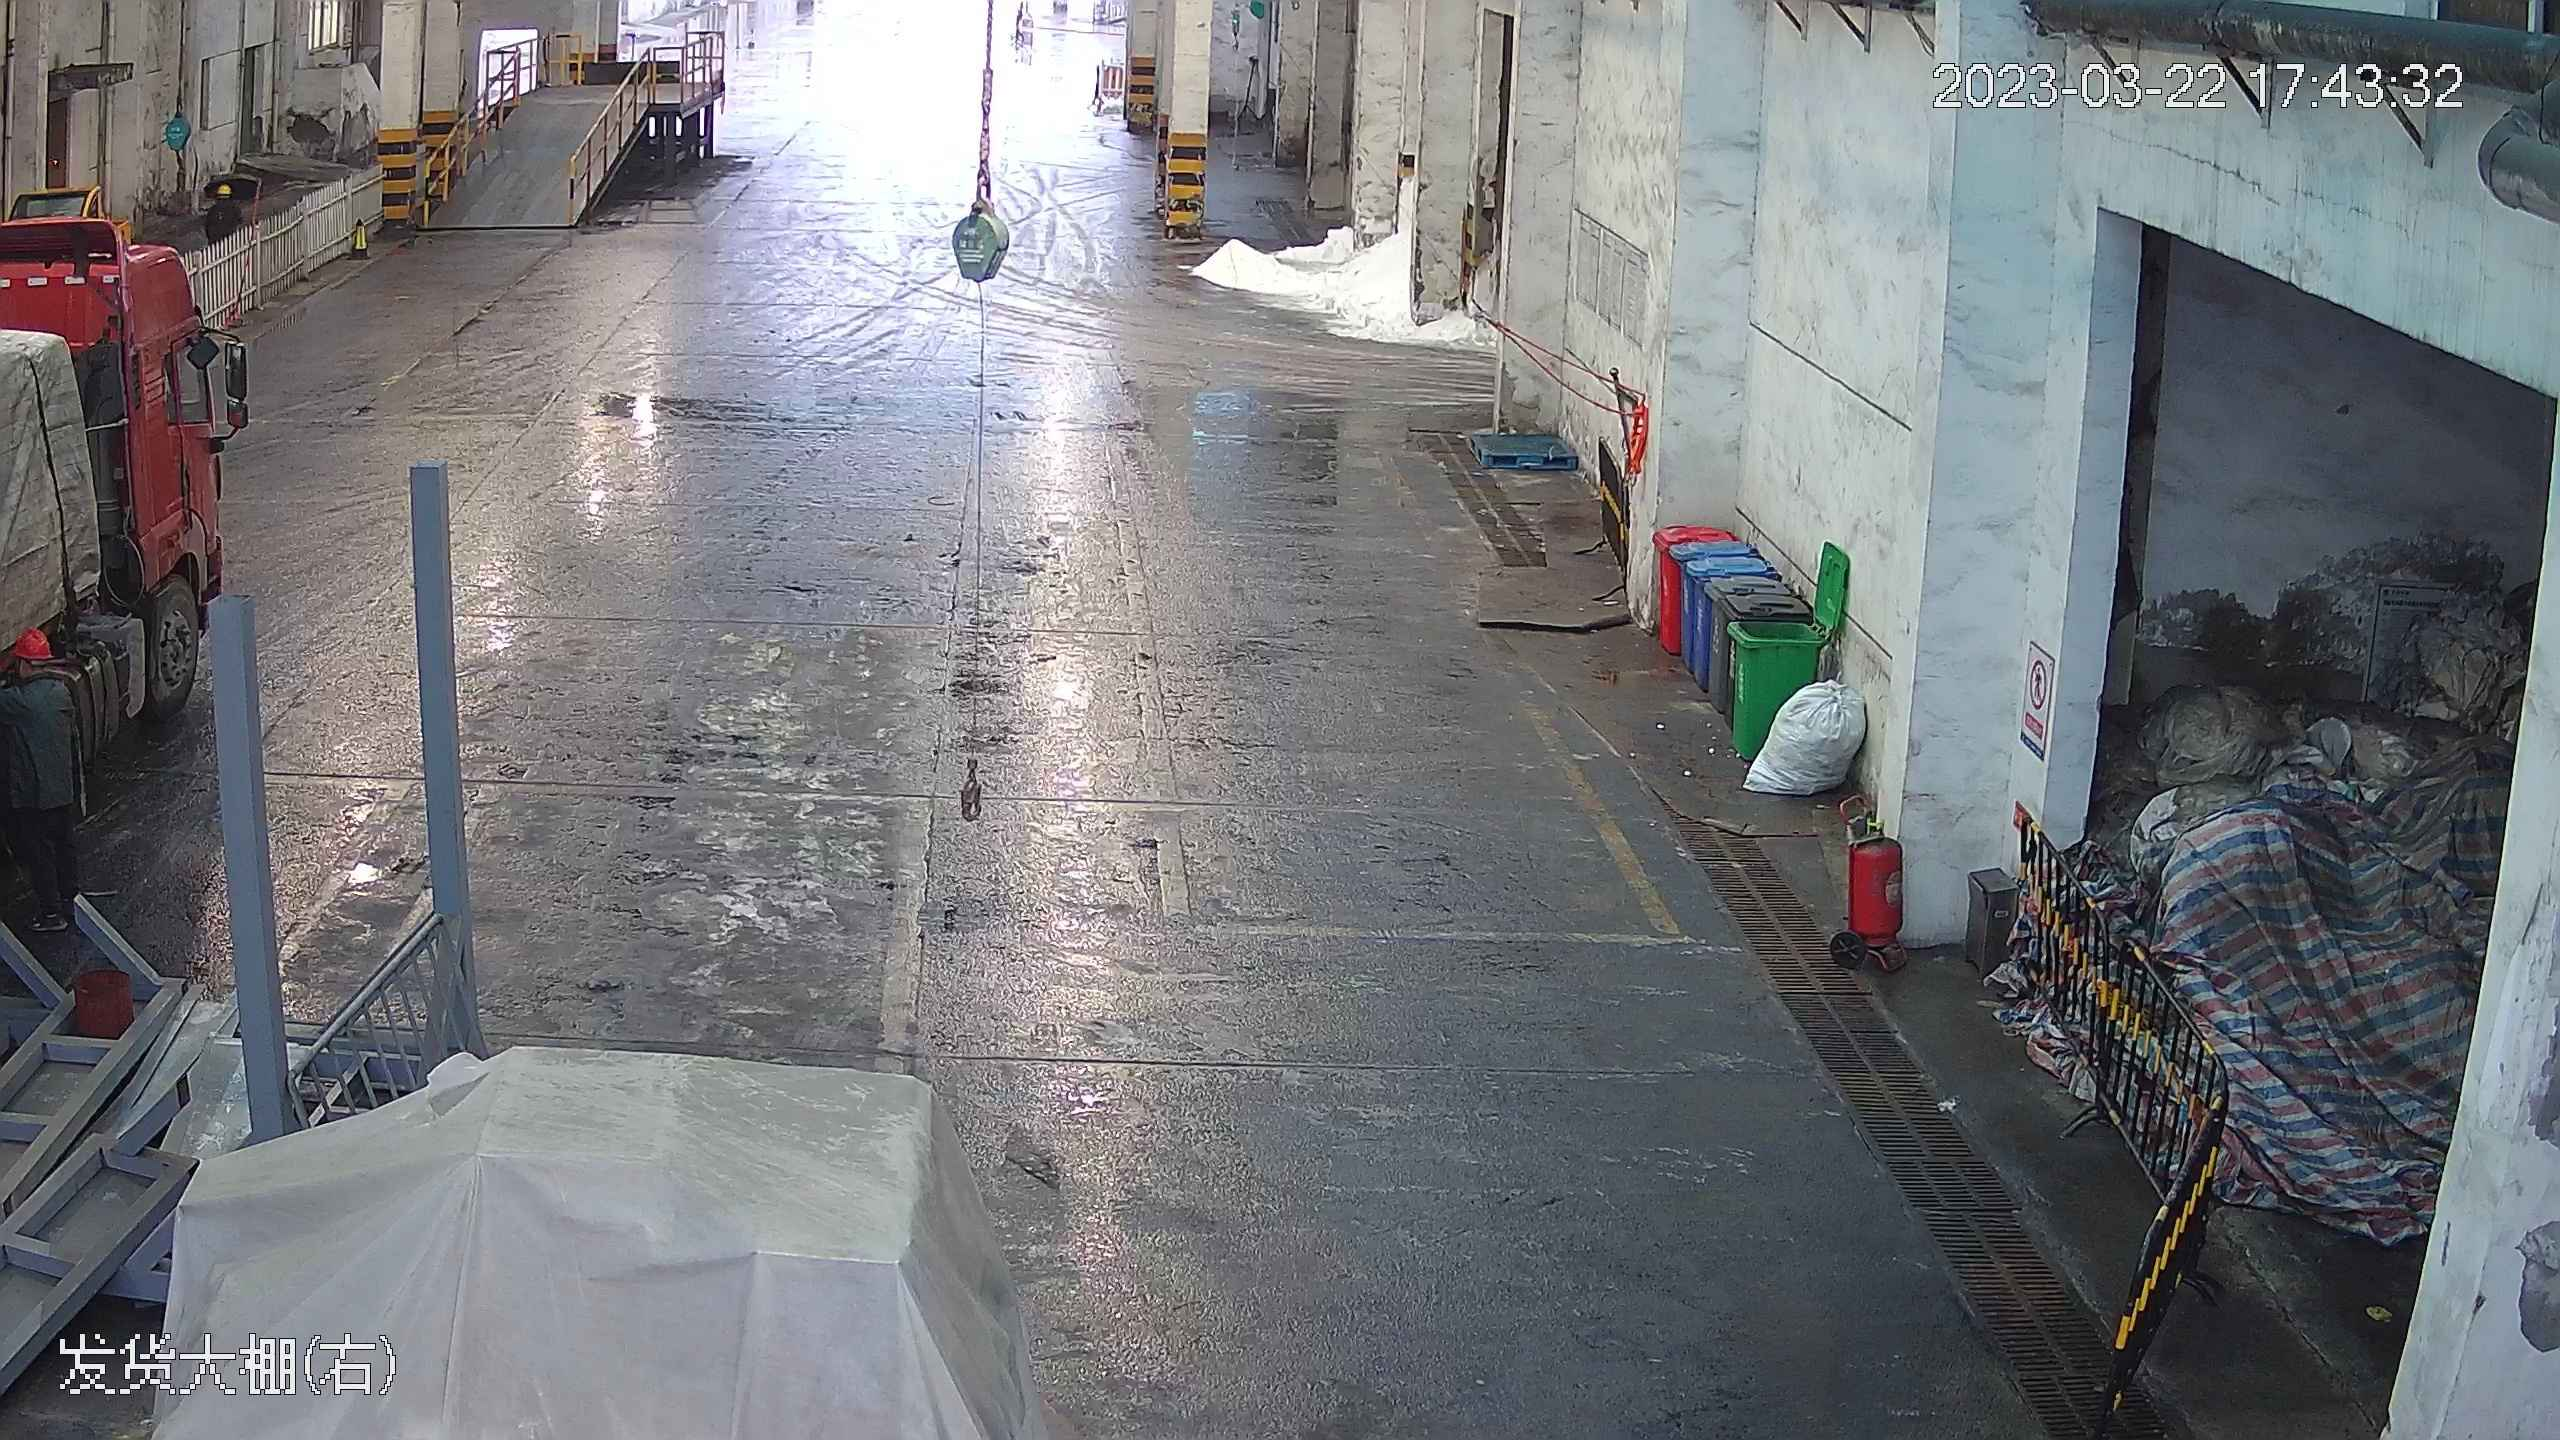head: (1, 623, 70, 740), (204, 177, 244, 222)
helmet: (5, 623, 50, 662)
people: (0, 622, 84, 957), (201, 179, 243, 259)
truck: (0, 204, 249, 1358)
